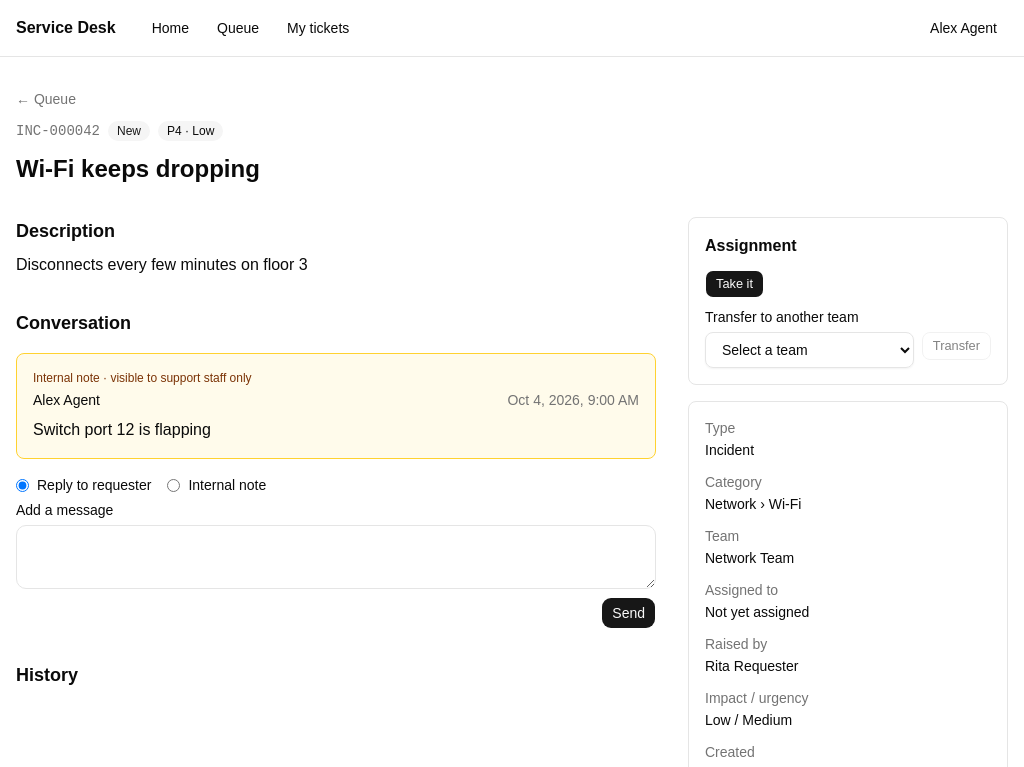
ticket page for support staff › writes internal notes that are clearly marked as staff-only
Expected: the text "Switch port 12 is flapping" is shown, [33,421,211,438]
Expected: the text "Internal note · visible to support staff only" is shown, [33,371,252,385]
Click the radio button labelled "Internal note" at [174, 485], box [167,478,180,492]
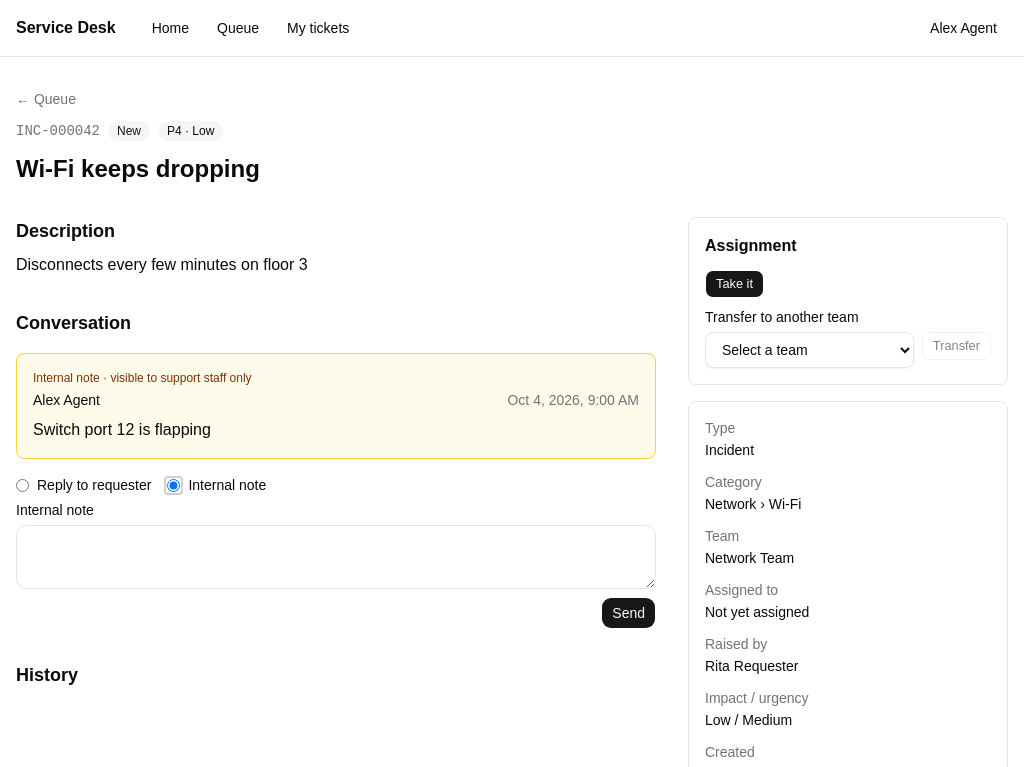
Type "Replaced the switch" into the text box labelled "Internal note" at [336, 557], box [16,525,656,589]
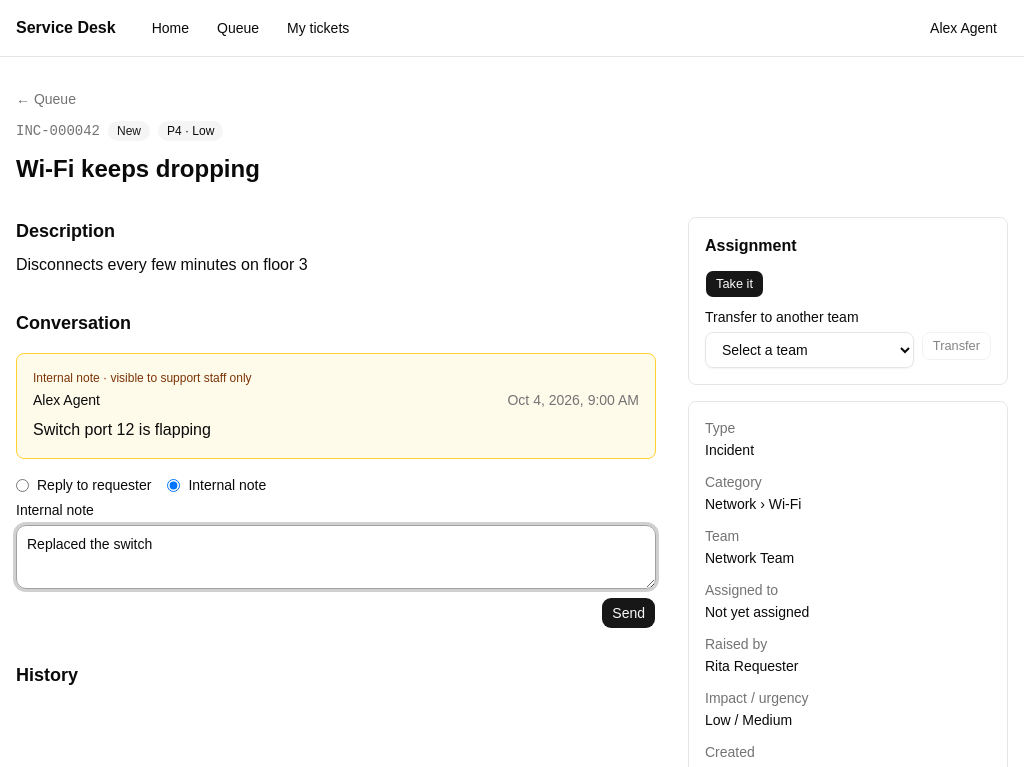
Click the button "Send" at [629, 613], box [601,597,656,629]
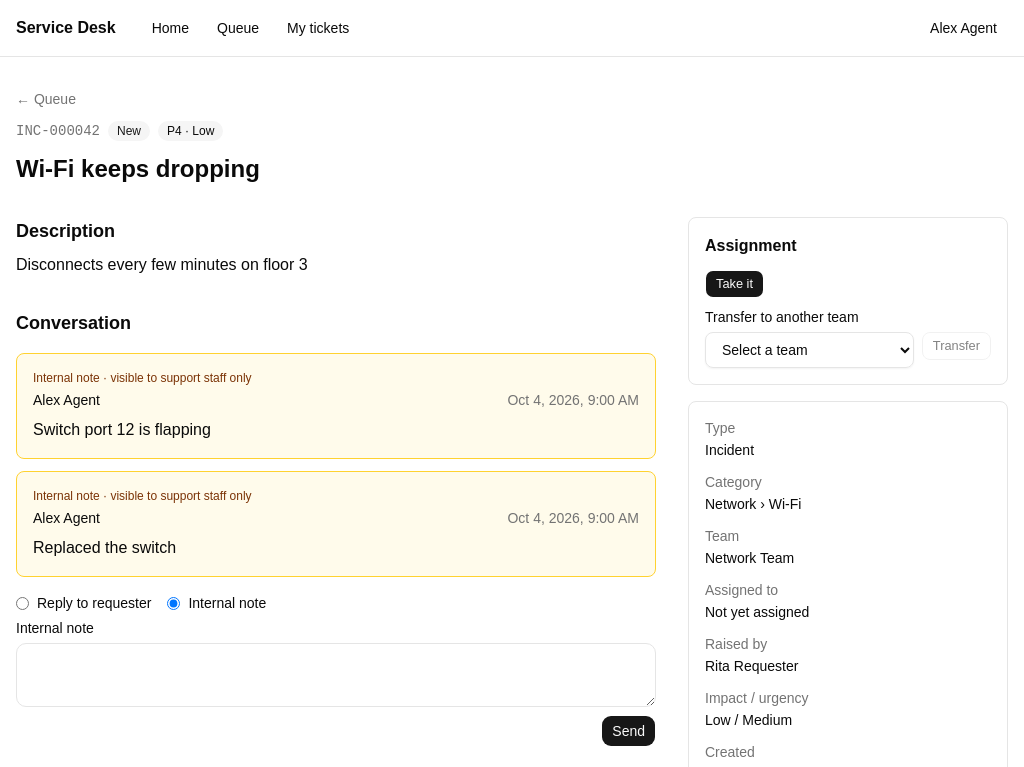
Result: the text "Replaced the switch" is shown at [33,539,176,556]
